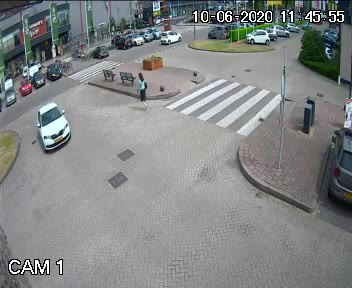car: (32, 103, 75, 151), (153, 29, 189, 46)
